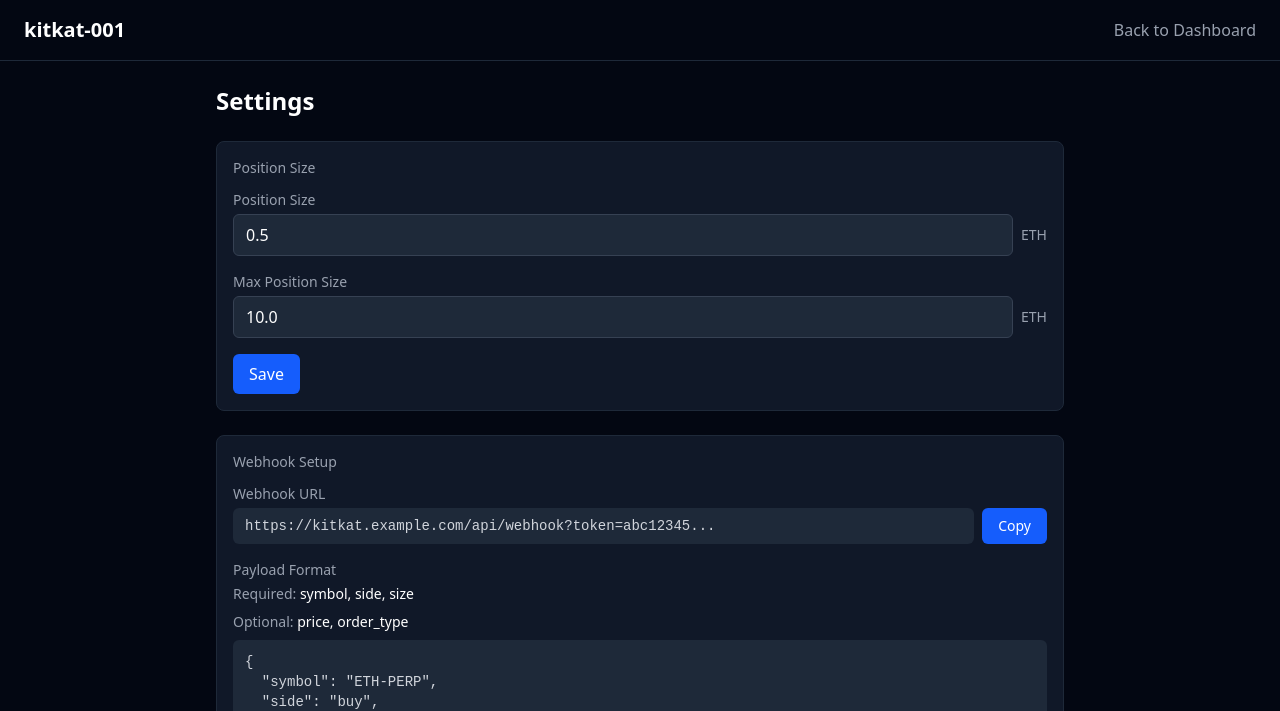
Test: SettingsPage › shows validation error for position size <= 0
Replace the text in the number field labelled "Position Size" with "0". click: (623, 235)
box: [233, 214, 1013, 256]
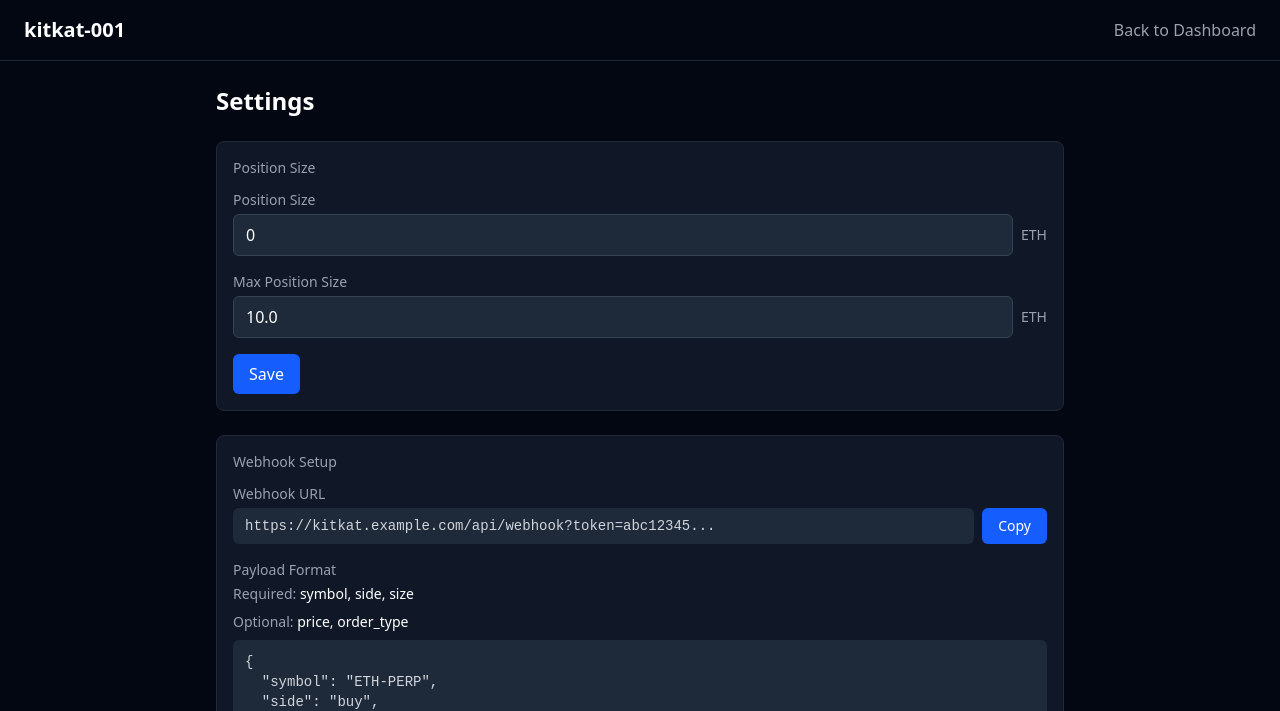
Click the button "Save". click: click(266, 374)
box: [233, 354, 300, 394]
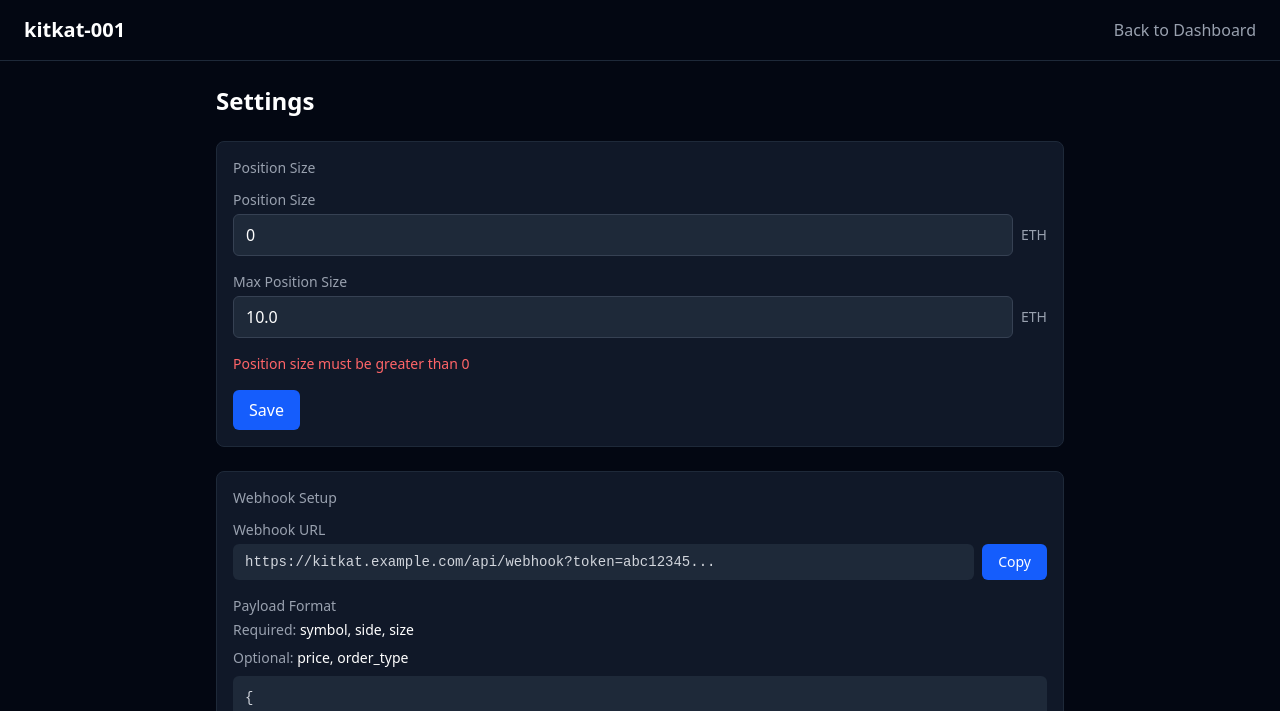
Expected: the text "Position size must be greater than 0" is shown, [233, 354, 470, 373]
